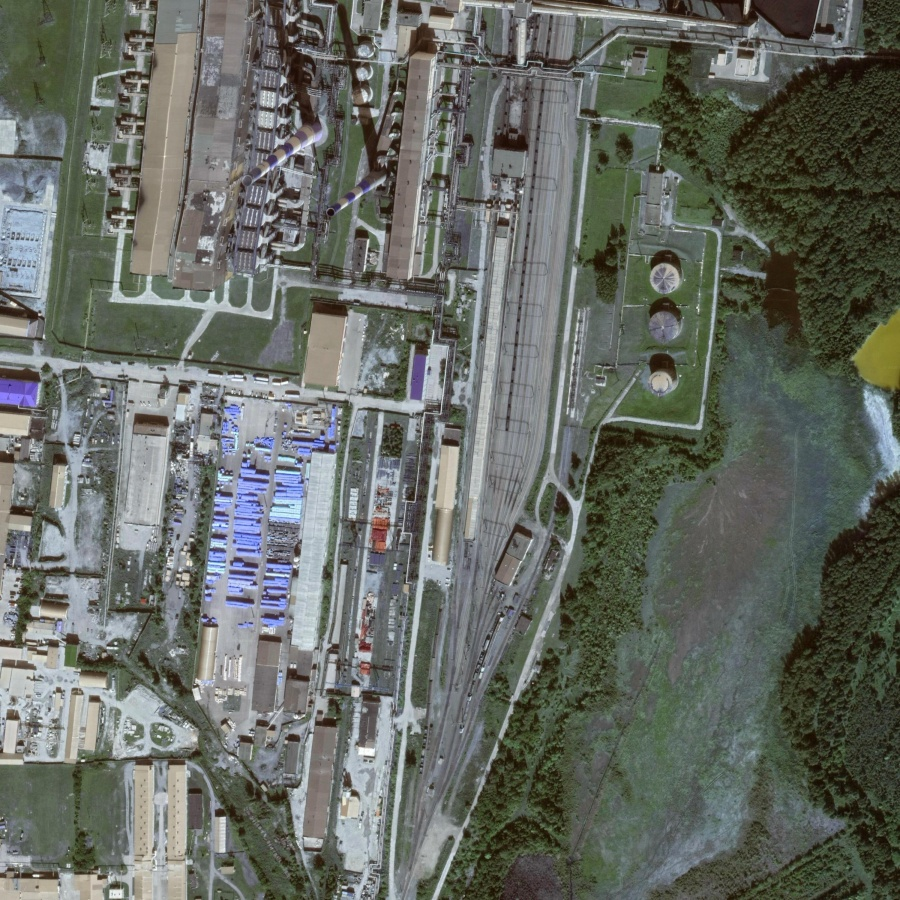PowerPlant: (571, 236, 719, 411)
